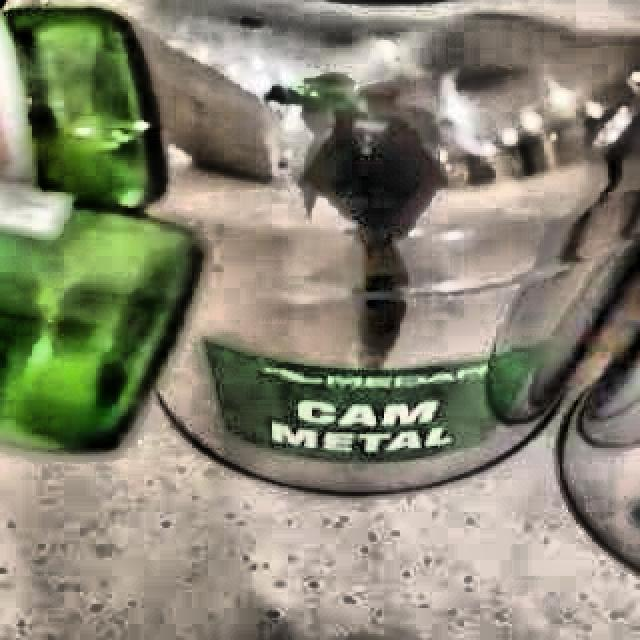glass: (0, 5, 203, 451)
